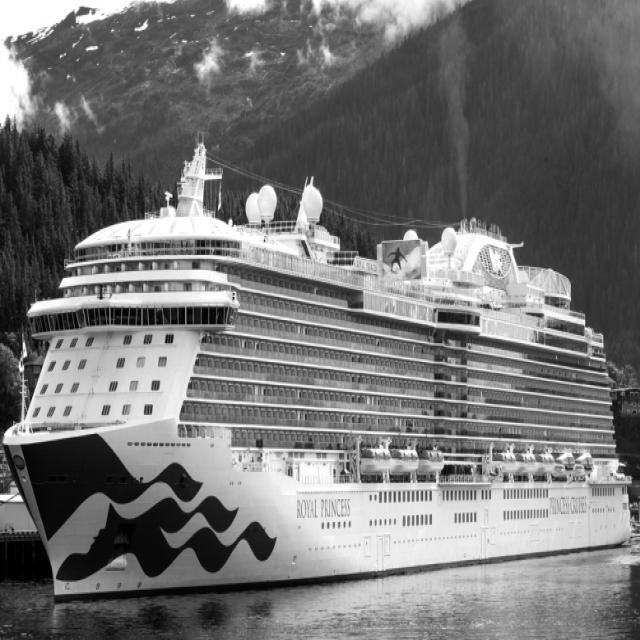cruises: (3, 131, 636, 613)
